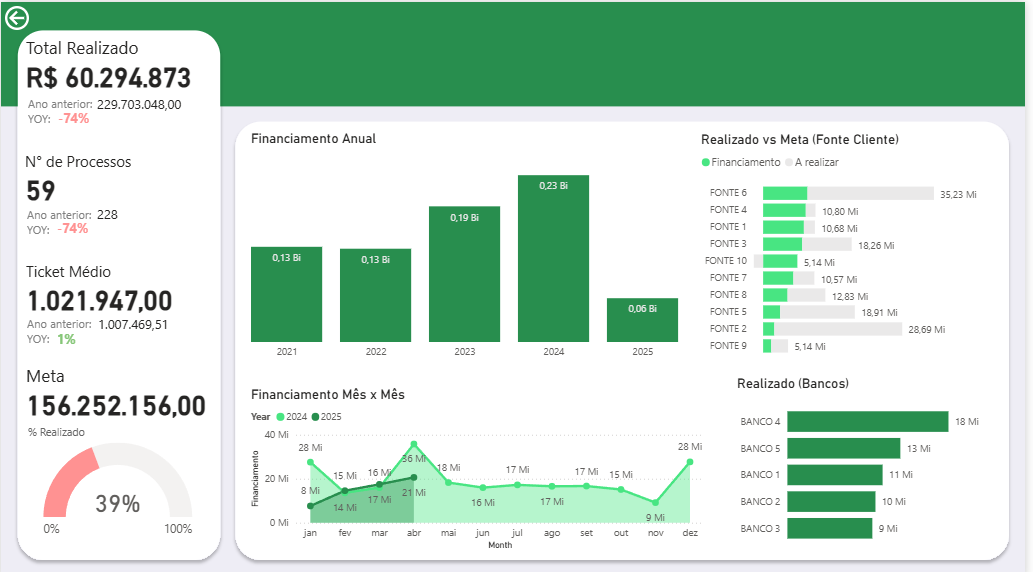

What the dashboard file says about the page in this screenshot:
{"tool":"powerbi","page":{"name":"Geral","canvas":[1280,720],"ordinal":2},"visuals":[{"type":"multiRowCard","title":"Ticket Médio","fields":{"Values":["Medidas.Ticket Médio"]},"box":[26.7,323.2,239,124],"z":0},{"type":"multiRowCard","title":"N° de Processos","fields":{"Values":["Medidas.Qtde Clientes 2025"]},"box":[25.1,186,237.7,121.5],"z":1000},{"type":"multiRowCard","title":"Total Realizado","fields":{"Values":["Medidas.Financiamento"]},"box":[25.9,43,238.8,126.2],"z":2000},{"type":"lineStackedColumnComboChart","title":"Financiamento Anual","fields":{"Category":["Calendario.Year"],"Y":["Medidas.Financiamento"]},"box":[307.8,160.6,543.9,295],"z":3000},{"type":"areaChart","title":"Financiamento Mês x Mês","fields":{"Category":["Calendario.Month"],"Y":["Medidas.Financiamento"],"Series":["Calendario.Year"]},"box":[307.5,480,576.2,210],"z":4000},{"type":"clusteredBarChart","title":"Realizado (Bancos)","fields":{"Category":["Banco.Banco"],"Y":["Medidas.Financiamento"]},"box":[915,466.2,322.5,223.8],"z":5000},{"type":"barChart","title":"Realizado vs Meta (Fonte Cliente)","fields":{"Y":["Medidas.Financiamento","Medidas.A realizar"],"Category":["Fonte Cliente.Fonte Cliente"]},"box":[870,161.1,367.8,291.1],"z":6000},{"type":"textbox","box":[28.3,112,119.2,56.9],"z":7000},{"type":"multiRowCard","fields":{"Values":["Medidas.Financiamento LY"]},"box":[114.4,111.2,130,30],"z":8000},{"type":"multiRowCard","fields":{"Values":["Medidas.Tx. Crescimento"]},"box":[66.1,128.7,56.7,31.7],"z":9000},{"type":"multiRowCard","title":"Meta","fields":{"Values":["Medidas.Previsto"]},"box":[26.7,452.7,239.1,124.5],"z":10000},{"type":"textbox","box":[27.8,251.2,118.2,58.2],"z":11000},{"type":"multiRowCard","fields":{"Values":["Medidas.YoY Qtd Clientes"]},"box":[65.1,265.7,56.4,31.8],"z":12000},{"type":"multiRowCard","fields":{"Values":["Medidas.Qtde Clientes LY"]},"box":[115.1,248.4,130,30],"z":13000},{"type":"textbox","box":[27.3,387.5,136.4,58.2],"z":14000},{"type":"multiRowCard","fields":{"Values":["Medidas.YoY"]},"box":[65.5,404.8,98.2,33.6],"z":15000},{"type":"multiRowCard","fields":{"Values":["Medidas.Ticket Médio LY"]},"box":[116.7,385.8,130,30],"z":16000},{"type":"gauge","title":"% Realizado","fields":{"Y":["Medidas.% Realizado 2025"]},"box":[28.2,529.1,234.5,150],"z":17000},{"type":"actionButton","box":[0,0,100,40],"z":18000}]}

Visuals, with their boxes in screenshot pixels (x1, y1, x2, y2), scaled from the page's 1280x720 canvas onto the 1033x572 screenshot:
"Ticket Médio" multiRowCard: [x1=22, y1=257, x2=214, y2=355]
"N° de Processos" multiRowCard: [x1=20, y1=148, x2=212, y2=244]
"Total Realizado" multiRowCard: [x1=21, y1=34, x2=214, y2=134]
"Financiamento Anual" lineStackedColumnComboChart: [x1=248, y1=128, x2=687, y2=362]
"Financiamento Mês x Mês" areaChart: [x1=248, y1=381, x2=713, y2=548]
"Realizado (Bancos)" clusteredBarChart: [x1=738, y1=370, x2=999, y2=548]
"Realizado vs Meta (Fonte Cliente)" barChart: [x1=702, y1=128, x2=999, y2=359]
textbox: [x1=23, y1=89, x2=119, y2=134]
multiRowCard - Medidas.Financiamento LY: [x1=92, y1=88, x2=197, y2=112]
multiRowCard - Medidas.Tx. Crescimento: [x1=53, y1=102, x2=99, y2=127]
"Meta" multiRowCard: [x1=22, y1=360, x2=215, y2=459]
textbox: [x1=22, y1=200, x2=118, y2=246]
multiRowCard - Medidas.YoY Qtd Clientes: [x1=53, y1=211, x2=98, y2=236]
multiRowCard - Medidas.Qtde Clientes LY: [x1=93, y1=197, x2=198, y2=221]
textbox: [x1=22, y1=308, x2=132, y2=354]
multiRowCard - Medidas.YoY: [x1=53, y1=322, x2=132, y2=348]
multiRowCard - Medidas.Ticket Médio LY: [x1=94, y1=306, x2=199, y2=330]
"% Realizado" gauge: [x1=23, y1=420, x2=212, y2=540]
actionButton: [x1=0, y1=0, x2=81, y2=32]
